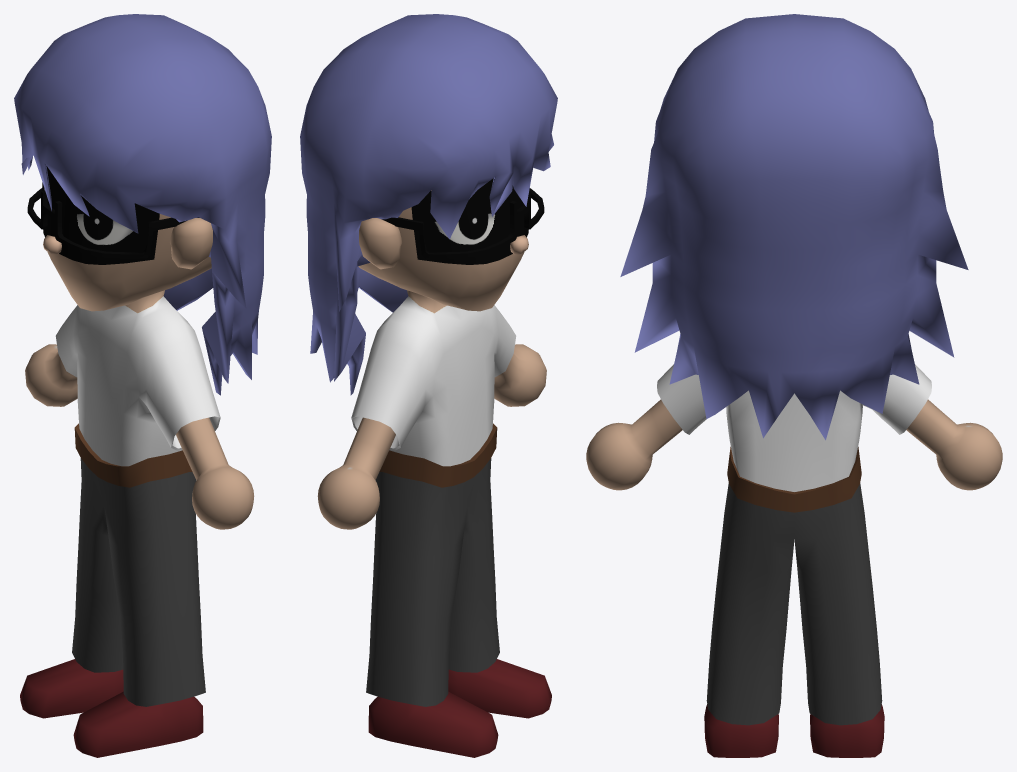
The model's file is NPC2.fbx.
3 views of the same model, side by side, from view 1: azimuth 30°, elevation 25°; view 2: azimuth 150°, elevation 25°; view 3: azimuth 270°, elevation 25° (orthographic). The views are drawn at different scales.
Visible parts, largest first — view 1: NPC2, Eyes Card.003; view 2: NPC2, Eyes Card.003; view 3: NPC2.
Part boxes in pixels (box(x1,y1,x2,y2)): NPC2: box(14, 14, 271, 757); Eyes Card.003: box(42, 166, 159, 264); NPC2: box(300, 14, 557, 757); Eyes Card.003: box(411, 178, 529, 264); NPC2: box(586, 14, 1002, 757).
Size of the model in its own units: 0.9973 by 1.65 by 3.12.
4 materials, 3 textured.
